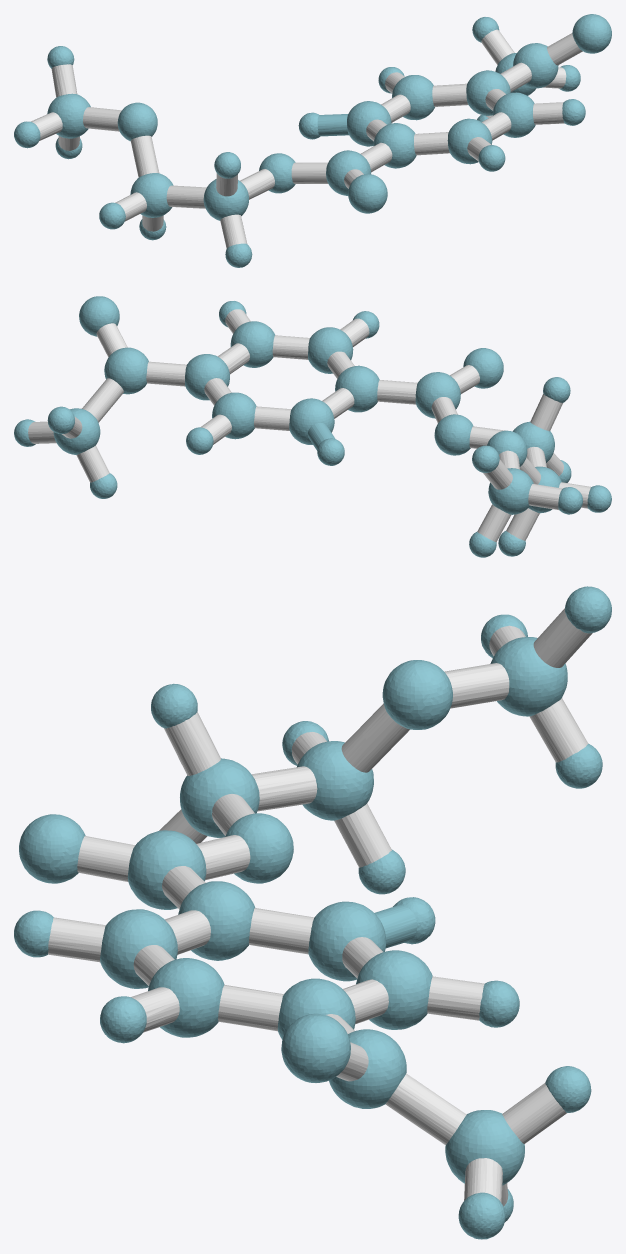
File: mainModel.gltf
The picture shows the model from 3 angles, top to bottom: view 1: azimuth 30°, elevation 25°; view 2: azimuth 150°, elevation 25°; view 3: azimuth 270°, elevation 25°; orthographic projection. The views are drawn at different scales.
Parts seen in each view (by area): view 1: MeshBody1 (1), MeshBody1 (29), MeshBody1 (37), MeshBody1 (33), MeshBody1 (32), MeshBody1 (22), MeshBody1 (38), MeshBody1 (39), MeshBody1 (25), MeshBody1 (23), MeshBody1 (28), MeshBody1 (27) (+28 smaller); view 2: MeshBody1 (1), MeshBody1 (9), MeshBody1 (32), MeshBody1 (29), MeshBody1 (33), MeshBody1 (37), MeshBody1 (27), MeshBody1 (23), MeshBody1 (28), MeshBody1 (34), MeshBody1 (38), MeshBody1 (+31 smaller); view 3: MeshBody1 (1), MeshBody1 (24), MeshBody1 (37), MeshBody1 (33), MeshBody1 (29), MeshBody1 (25), MeshBody1 (39), MeshBody1 (38), MeshBody1 (34), MeshBody1 (23), MeshBody1 (28), MeshBody1 (36) (+31 smaller).
Part boxes in pixels (x1,y1,x2,y2): MeshBody1 (1): (361,62,564,171); MeshBody1 (29): (373,123,416,168); MeshBody1 (37): (392,75,434,120); MeshBody1 (33): (492,92,535,137); MeshBody1 (32): (513,43,558,88); MeshBody1 (22): (348,174,387,213); MeshBody1 (38): (47,93,90,138); MeshBody1 (39): (130,173,173,217); MeshBody1 (25): (572,14,611,53); MeshBody1 (23): (447,118,492,164); MeshBody1 (28): (347,101,391,146); MeshBody1 (27): (466,70,510,115); MeshBody1 (1): (146,309,417,430); MeshBody1 (9): (76,378,123,482); MeshBody1 (32): (104,347,148,394); MeshBody1 (29): (335,365,379,412); MeshBody1 (33): (230,321,274,367); MeshBody1 (37): (212,392,256,439); MeshBody1 (27): (185,354,229,400); MeshBody1 (23): (308,327,353,373); MeshBody1 (28): (289,398,334,444); MeshBody1 (34): (415,372,460,418); MeshBody1 (38): (488,468,533,514); MeshBody1: (434,414,473,455); MeshBody1 (1): (131,866,388,1033); MeshBody1 (24): (382,660,452,729); MeshBody1 (37): (356,950,432,1029); MeshBody1 (33): (148,958,224,1037); MeshBody1 (29): (178,881,255,960); MeshBody1 (25): (281,1013,350,1082); MeshBody1 (39): (297,741,373,820); MeshBody1 (38): (490,637,567,716); MeshBody1 (34): (127,830,206,909); MeshBody1 (23): (100,909,177,988); MeshBody1 (28): (308,901,385,981); MeshBody1 (36): (445,1110,524,1185).
Size of the model in its own units: 6.01 by 1.73 by 3.19.
